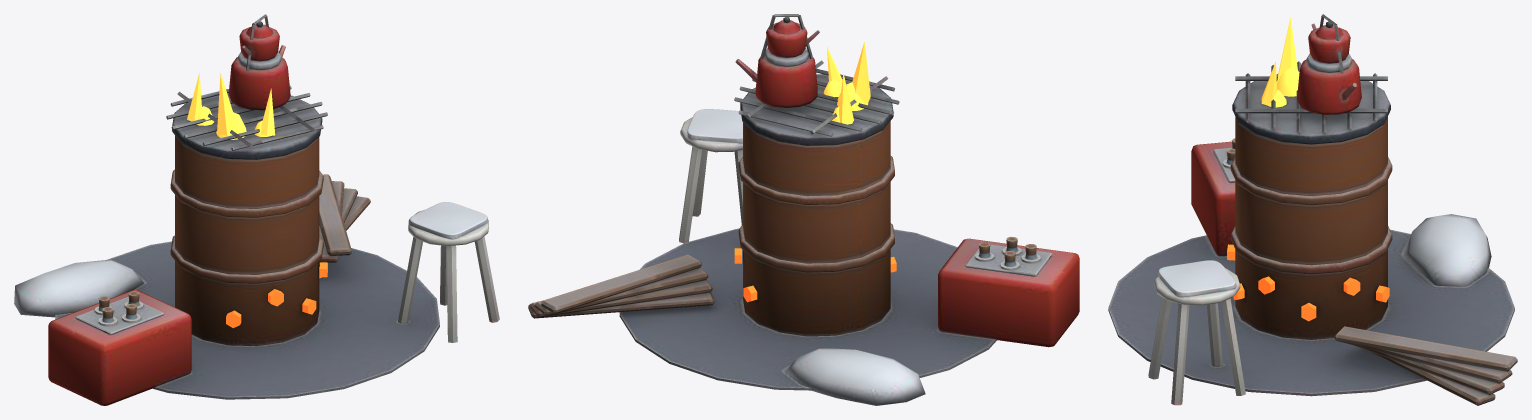
File: fire_barrel_tea.glb
3 views of the same model, side by side, from view 1: azimuth 30°, elevation 25°; view 2: azimuth 150°, elevation 25°; view 3: azimuth 270°, elevation 25° (orthographic). The views are drawn at different scales.
Parts seen in each view (by area): view 1: fire_barrel_tea, fire_barrel_tea_glow; view 2: fire_barrel_tea, fire_barrel_tea_glow; view 3: fire_barrel_tea, fire_barrel_tea_glow.
Part boxes in pixels (<box>): fire_barrel_tea: <box>14,14,499,405</box>; fire_barrel_tea_glow: <box>187,72,327,328</box>; fire_barrel_tea: <box>528,14,1079,405</box>; fire_barrel_tea_glow: <box>734,42,896,302</box>; fire_barrel_tea: <box>1108,14,1517,405</box>; fire_barrel_tea_glow: <box>1227,17,1389,321</box>.
Bounding box in the file's own units: 1.99 × 1.32 × 1.61.
3 materials, 1 textured.
